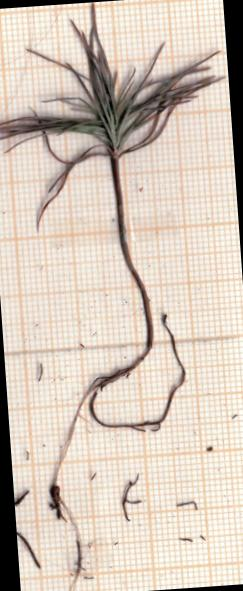flower: (0, 0, 237, 233)
root: (32, 337, 243, 591)
stem: (105, 158, 159, 346)
